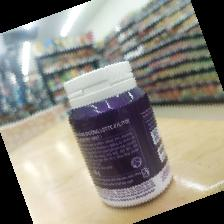Xylitol_BTS: (60, 59, 172, 209)
